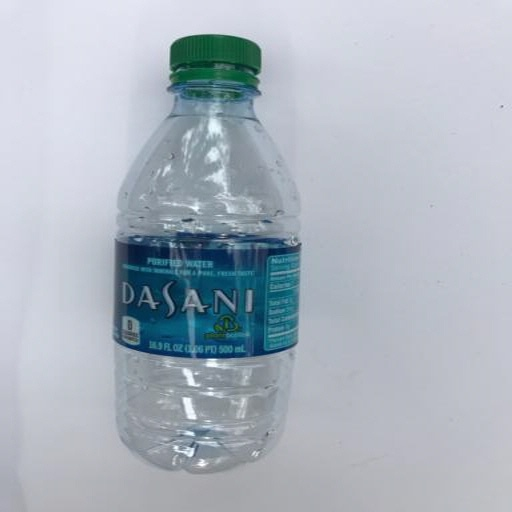Plastic_0: (112, 33, 300, 469)
